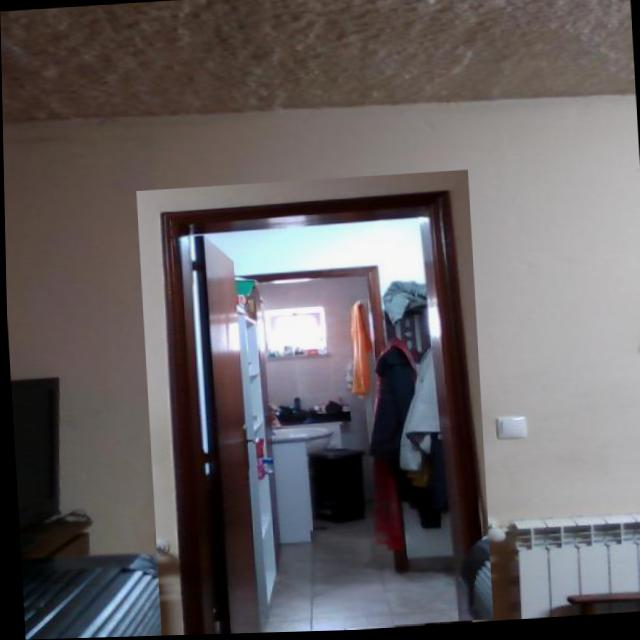open: (134, 172, 492, 636)
